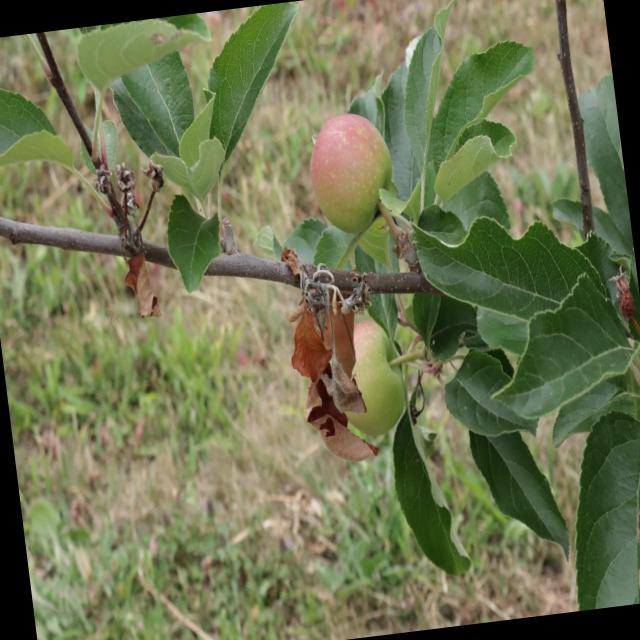-FireBlight-: (277, 242, 377, 464), (102, 226, 164, 328)
